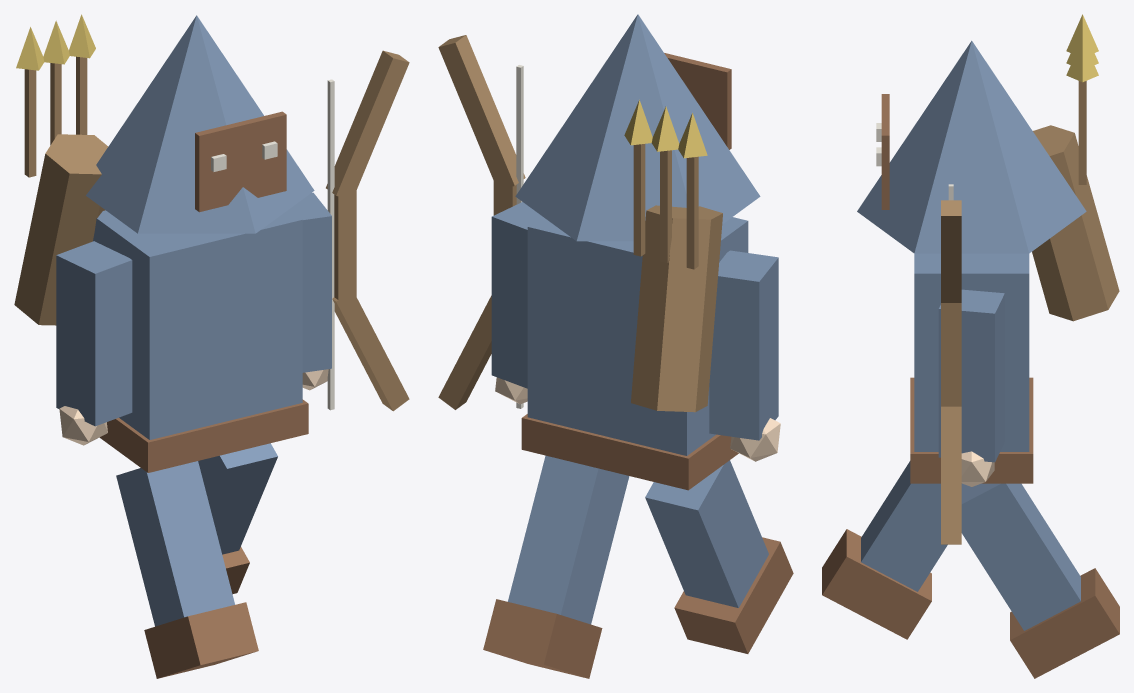
Rendered from npcpose_archer_walk_09.glb.
3 views of the same model, side by side, from view 1: azimuth 30°, elevation 25°; view 2: azimuth 150°, elevation 25°; view 3: azimuth 270°, elevation 25° (orthographic). The views are drawn at different scales.
Parts seen in each view (by area): view 1: npcpose; view 2: npcpose; view 3: npcpose.
Boxes of the visible parts, <box> form: npcpose: <box>14,14,409,678</box>; npcpose: <box>438,14,793,678</box>; npcpose: <box>822,14,1119,678</box>.
Bounding box in the file's own units: 0.9089 × 1.63 × 0.7256.
